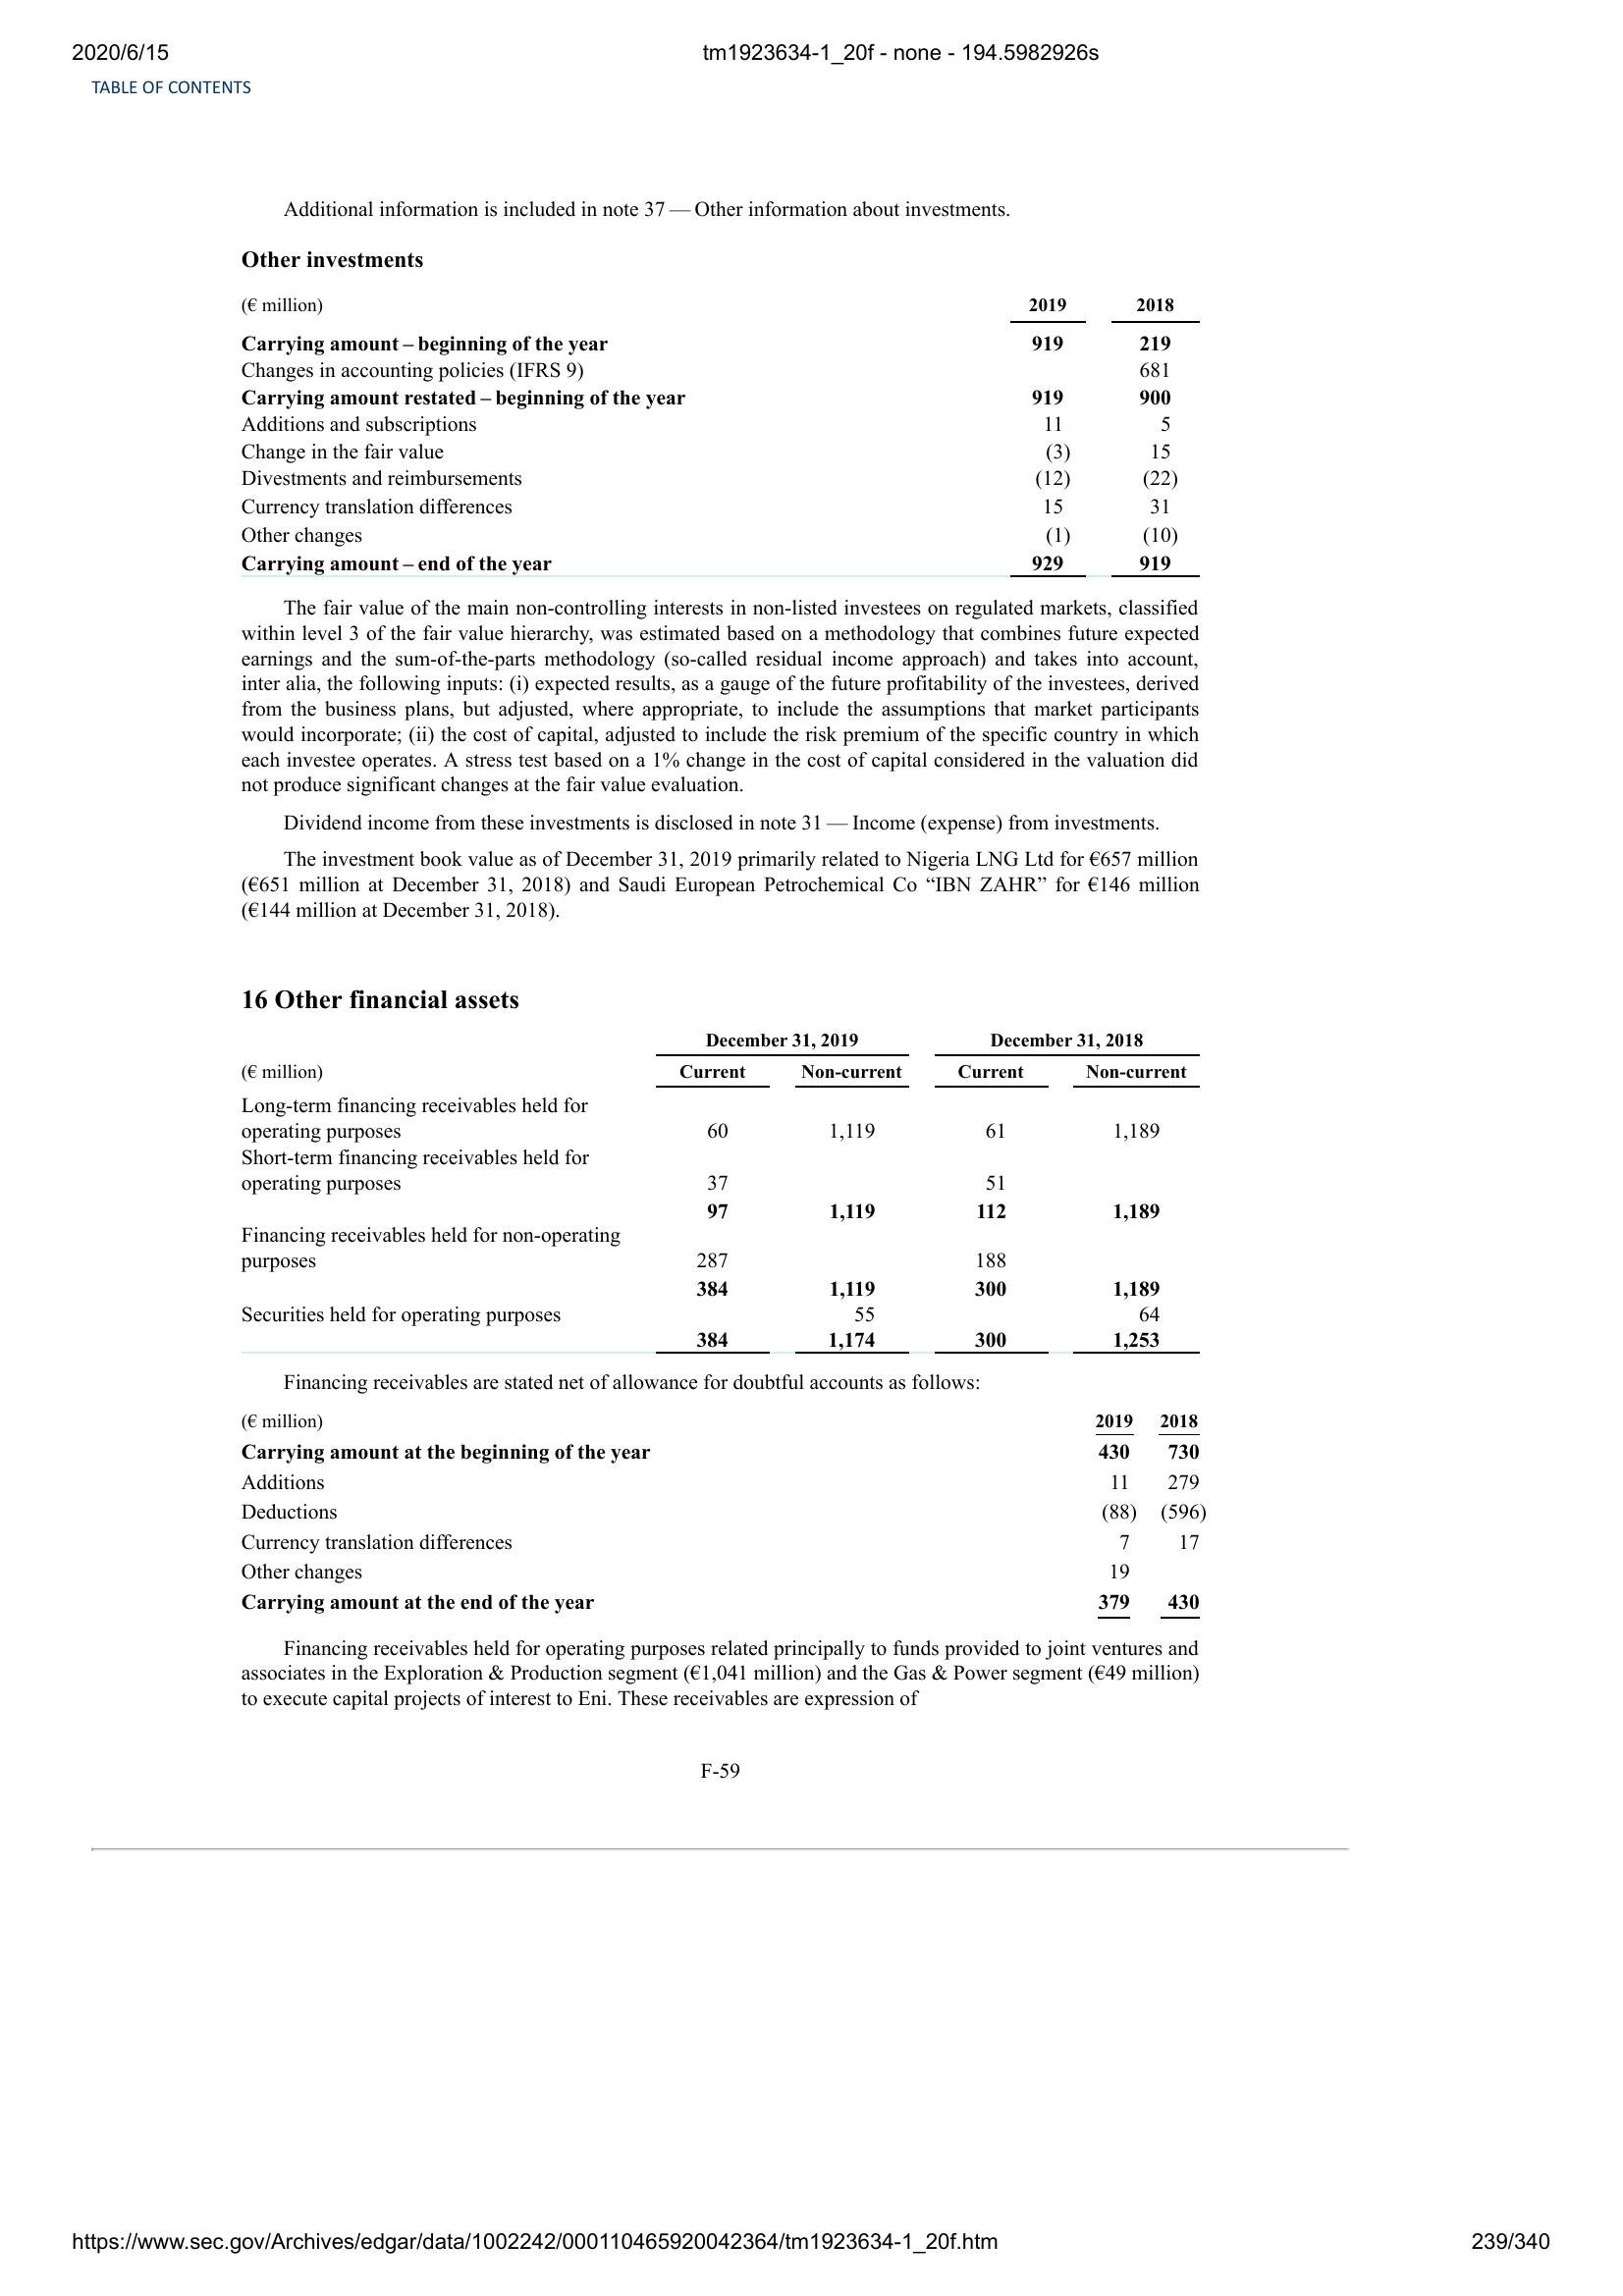table: (235, 1025, 1208, 1360), (234, 288, 1208, 581), (242, 1406, 1208, 1624)
